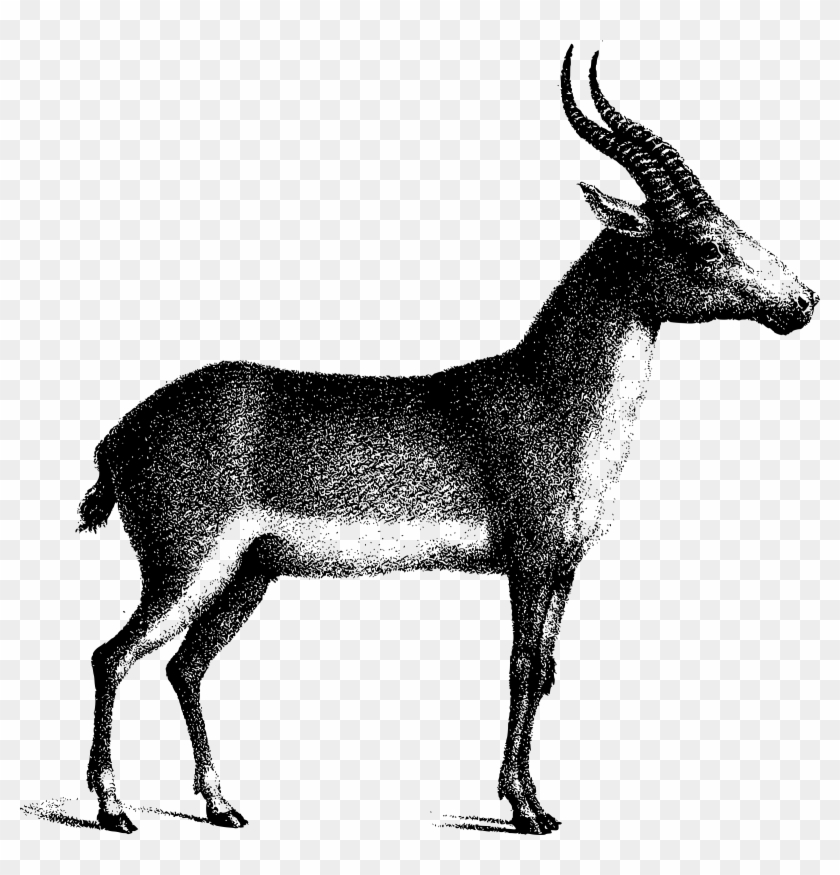saiga: (76, 43, 823, 835)
